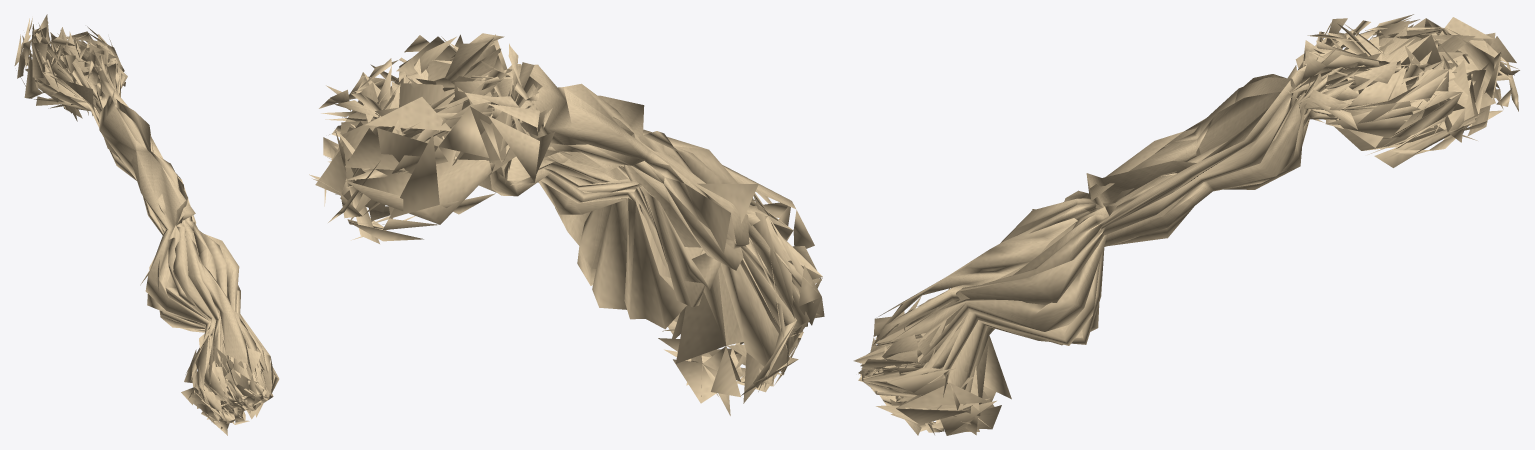
The model's file is bundled_sails.glb.
3 renders of one model, left to right at view 1: azimuth 30°, elevation 25°; view 2: azimuth 150°, elevation 25°; view 3: azimuth 270°, elevation 25°, orthographic. The views are drawn at different scales.
Parts seen in each view (by area): view 1: Object_35; view 2: Object_35; view 3: Object_35.
Part boxes in pixels (x1=…): Object_35: x1=14, y1=14, x2=279, y2=435; Object_35: x1=309, y1=33, x2=824, y2=415; Object_35: x1=853, y1=14, x2=1519, y2=435.
Bounding box in the file's own units: 0.7747 × 2.14 × 3.15.
1 material, 1 textured.
